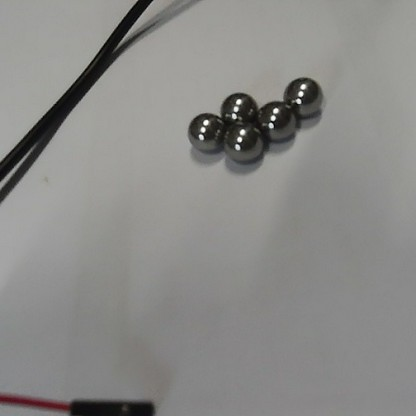ironball: (221, 122, 266, 170), (282, 70, 323, 122), (183, 108, 226, 151), (256, 99, 293, 146), (217, 86, 256, 126)
